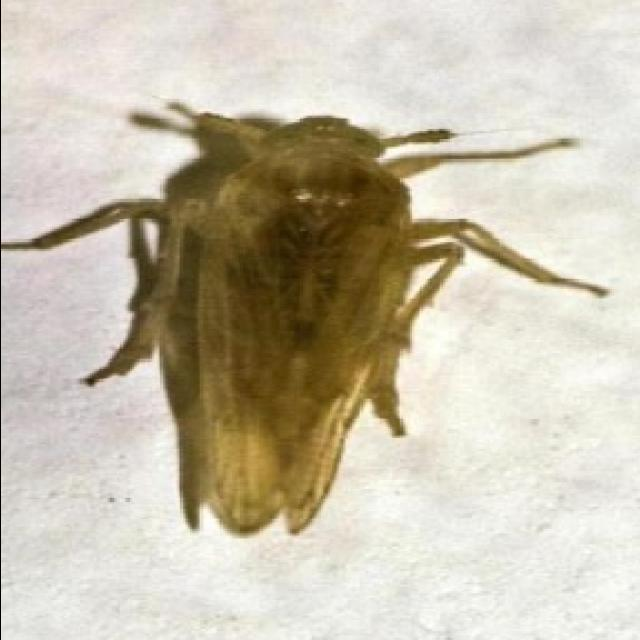brown plant hopper: (0, 104, 607, 536)
